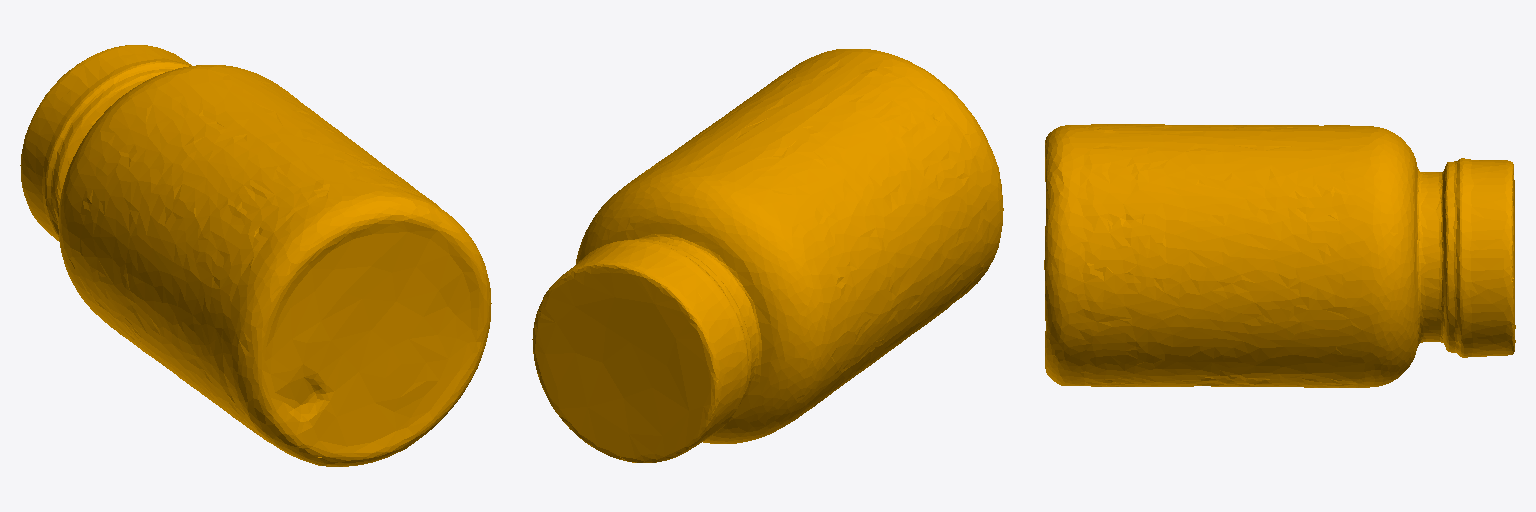
robot.urdf — model.urdf:
<?xml version="0.0" ?>
<robot name="model.urdf">
  <link name="baseLink">
    <visual>
			<origin xyz="0 0 0" rpy="-1.57 0 0"/>
      <geometry>
        <mesh filename="model.obj" scale="1 1 1"/>
      </geometry>
      <material name="white">
        <texture filename="assets/urdf_models/models/AllergenFree_JarroDophilus_1/texture.png"/>
      </material>
    </visual>
    <collision>
      <geometry>
    	 	<mesh filename="model.obj" scale="1 1 1"/>
      </geometry>
    </collision>
    <inertial>
			<mass value="0.75326"/>
			<inertia  ixx="0.000281" ixy="0.00"  ixz="0.00" iyy="0.000281" iyz="0.00" izz="0.000273" />
		</inertial>
  </link>
</robot>

--- Render facts (derived) ---
3 views of the same robot in one strip: view 1: azimuth 30°, elevation 25°; view 2: azimuth 150°, elevation 25°; view 3: azimuth 270°, elevation 25° (orthographic).
Model model.urdf with 1 links and 0 joints (none), rooted at baseLink, posed every joint at zero.
Visible links, largest first — view 1: baseLink; view 2: baseLink; view 3: baseLink.
Boxes of the visible links, x1,y1,x2,y2 form: baseLink: [20, 45, 491, 466]; baseLink: [532, 49, 1003, 462]; baseLink: [1044, 124, 1515, 387].
Bounding box of the posed robot: 0.0539 × 0.096 × 0.0535 m (x, y, z).
Meshes: 1 distinct files referenced, 1 mesh visuals loaded (1 OBJ).